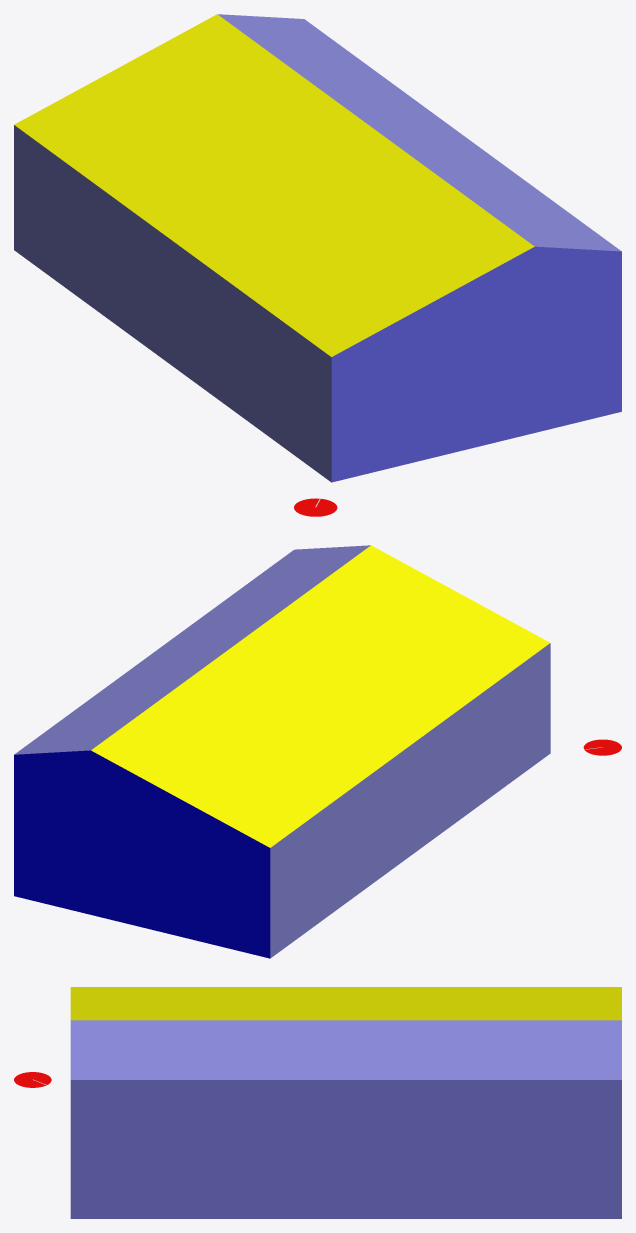
The model's file is result.glb.
The picture shows the model from 3 angles, top to bottom: view 1: azimuth 30°, elevation 25°; view 2: azimuth 150°, elevation 25°; view 3: azimuth 270°, elevation 25°; orthographic projection. The views are drawn at different scales.
Visible parts, largest first — view 1: 33f3d037-bedf-464e-ba0b-2b72486f37d9__undefined, cf502413-4b7f-4424-ab32-061c3e589554__undefined, 73351f07-5fbb-417e-9938-c282dd2553ba__undefined, 178ab069-4194-45c9-8cad-c8919e0db173__undefined; view 2: 33f3d037-bedf-464e-ba0b-2b72486f37d9__undefined, c0afba73-a556-4be7-88a5-4d4ff6774bac__undefined, 73351f07-5fbb-417e-9938-c282dd2553ba__undefined, 178ab069-4194-45c9-8cad-c8919e0db173__undefined; view 3: 33fab2a1-c45c-4cfd-b8c4-32b3e6c90e0a__undefined, 178ab069-4194-45c9-8cad-c8919e0db173__undefined, 33f3d037-bedf-464e-ba0b-2b72486f37d9__undefined, 87eb8f52-eaad-4f7d-b306-8d711b193716__Circle.
Boxes of the visible parts, bbox=[...] form: 33f3d037-bedf-464e-ba0b-2b72486f37d9__undefined: bbox=[14, 14, 534, 356]; cf502413-4b7f-4424-ab32-061c3e589554__undefined: bbox=[331, 246, 621, 482]; 73351f07-5fbb-417e-9938-c282dd2553ba__undefined: bbox=[14, 125, 331, 482]; 178ab069-4194-45c9-8cad-c8919e0db173__undefined: bbox=[218, 14, 621, 251]; 33f3d037-bedf-464e-ba0b-2b72486f37d9__undefined: bbox=[91, 545, 549, 847]; c0afba73-a556-4be7-88a5-4d4ff6774bac__undefined: bbox=[14, 750, 270, 958]; 73351f07-5fbb-417e-9938-c282dd2553ba__undefined: bbox=[270, 643, 550, 958]; 178ab069-4194-45c9-8cad-c8919e0db173__undefined: bbox=[14, 545, 370, 754]; 33fab2a1-c45c-4cfd-b8c4-32b3e6c90e0a__undefined: bbox=[70, 1080, 621, 1218]; 178ab069-4194-45c9-8cad-c8919e0db173__undefined: bbox=[70, 1020, 621, 1079]; 33f3d037-bedf-464e-ba0b-2b72486f37d9__undefined: bbox=[70, 987, 621, 1020]; 87eb8f52-eaad-4f7d-b306-8d711b193716__Circle: bbox=[14, 1072, 51, 1087].
Size of the model in its own units: 923 by 474 by 1614.
